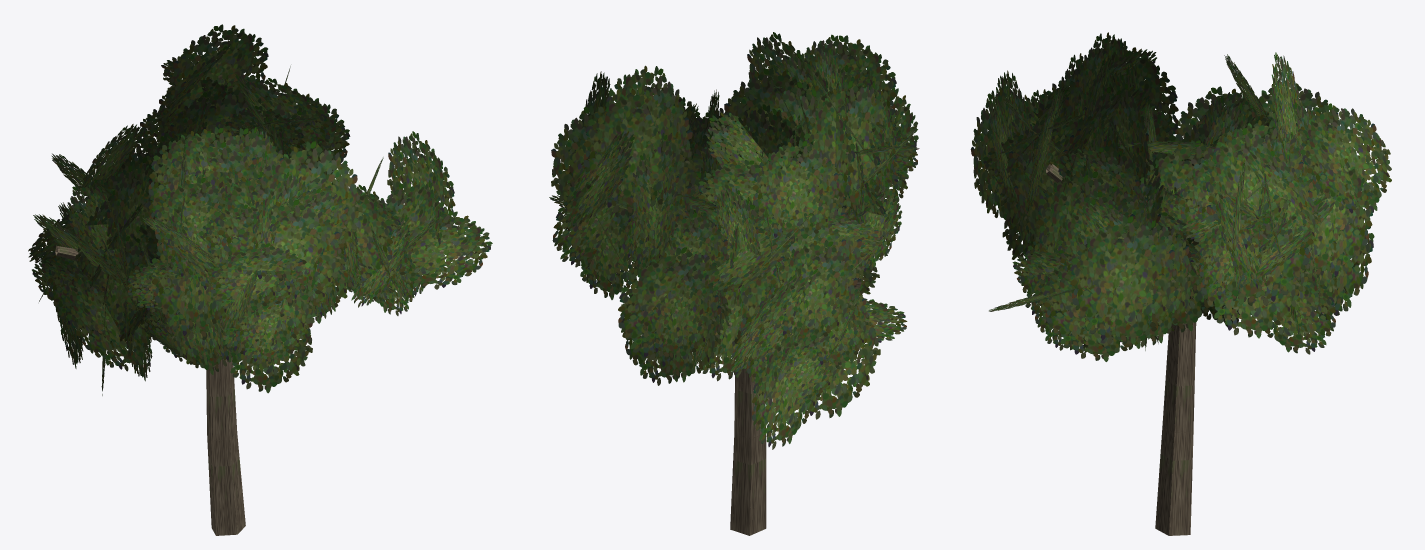
The model's file is Tree_Oak_2_LOD1.gltf.
3 renders of one model, left to right at view 1: azimuth 30°, elevation 25°; view 2: azimuth 150°, elevation 25°; view 3: azimuth 270°, elevation 25°, orthographic. The views are drawn at different scales.
Parts seen in each view (by area): view 1: Tree_Oak_2_LOD1; view 2: Tree_Oak_2_LOD1; view 3: Tree_Oak_2_LOD1.
Part boxes in pixels (x1,y1,x2,y2): Tree_Oak_2_LOD1: [28, 24, 492, 535]; Tree_Oak_2_LOD1: [549, 32, 919, 535]; Tree_Oak_2_LOD1: [970, 32, 1391, 535].
Bounding box in the file's own units: 16.72 × 19.83 × 16.12.
Materials: 2 (2 with a texture image).
